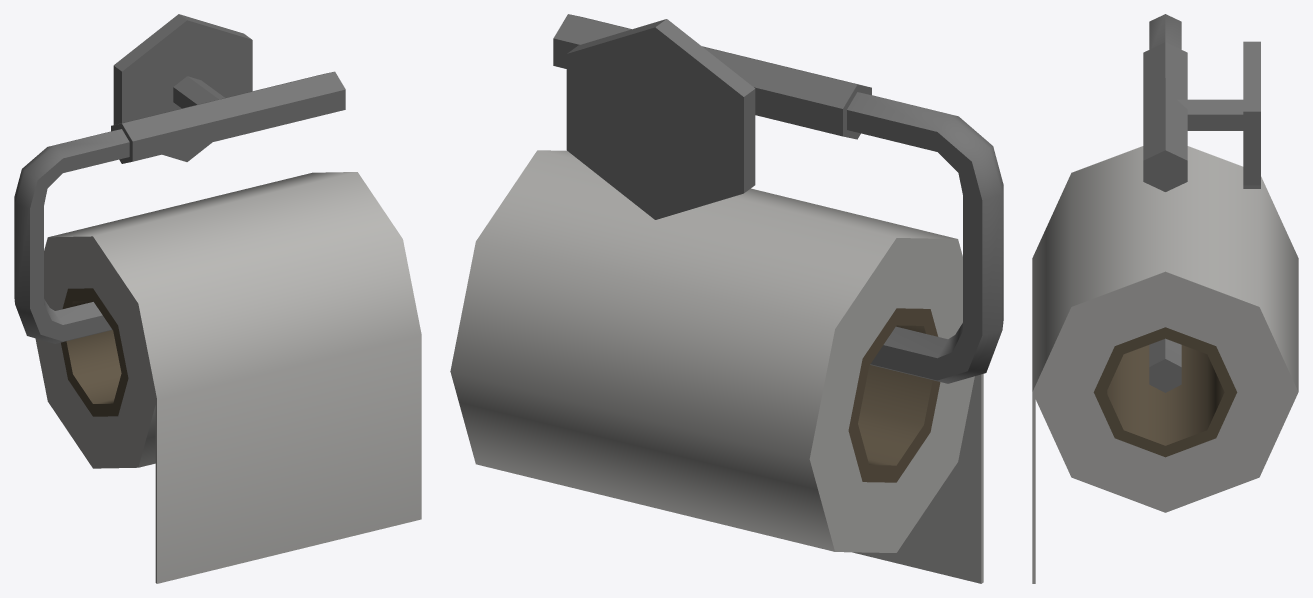
The model's file is Bathroom_ToiletPaper.gltf.
The picture shows the model from 3 angles, left to right: view 1: azimuth 30°, elevation 25°; view 2: azimuth 150°, elevation 25°; view 3: azimuth 270°, elevation 25°; orthographic projection. The views are drawn at different scales.
Parts seen in each view (by area): view 1: Bathroom_ToiletPaper; view 2: Bathroom_ToiletPaper; view 3: Bathroom_ToiletPaper.
Boxes of the visible parts, bbox=[...] form: Bathroom_ToiletPaper: bbox=[14, 14, 421, 583]; Bathroom_ToiletPaper: bbox=[450, 14, 1003, 583]; Bathroom_ToiletPaper: bbox=[1032, 14, 1298, 583].
Size of the model in its own units: 0.2999 by 0.3444 by 0.1749.
